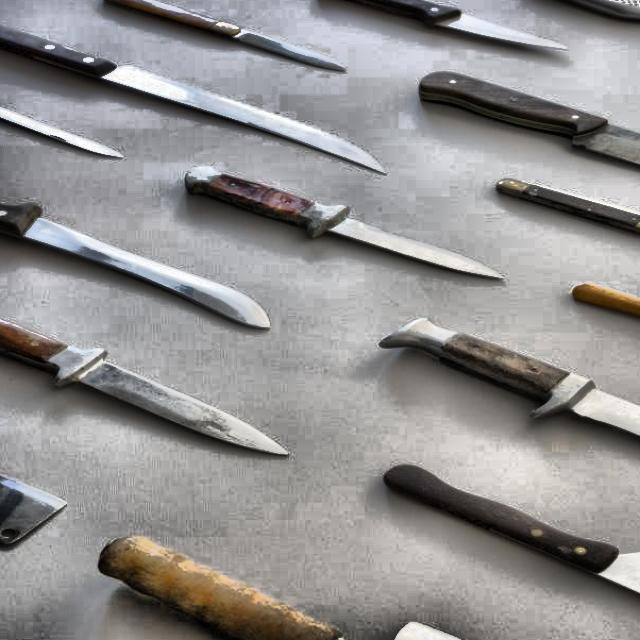knife: (0, 8, 392, 178), (0, 292, 302, 462), (101, 529, 552, 640), (170, 167, 504, 293), (0, 189, 282, 332), (385, 460, 640, 604), (382, 313, 640, 442), (412, 68, 640, 165), (100, 0, 359, 74), (286, 0, 575, 60), (0, 90, 135, 169)
